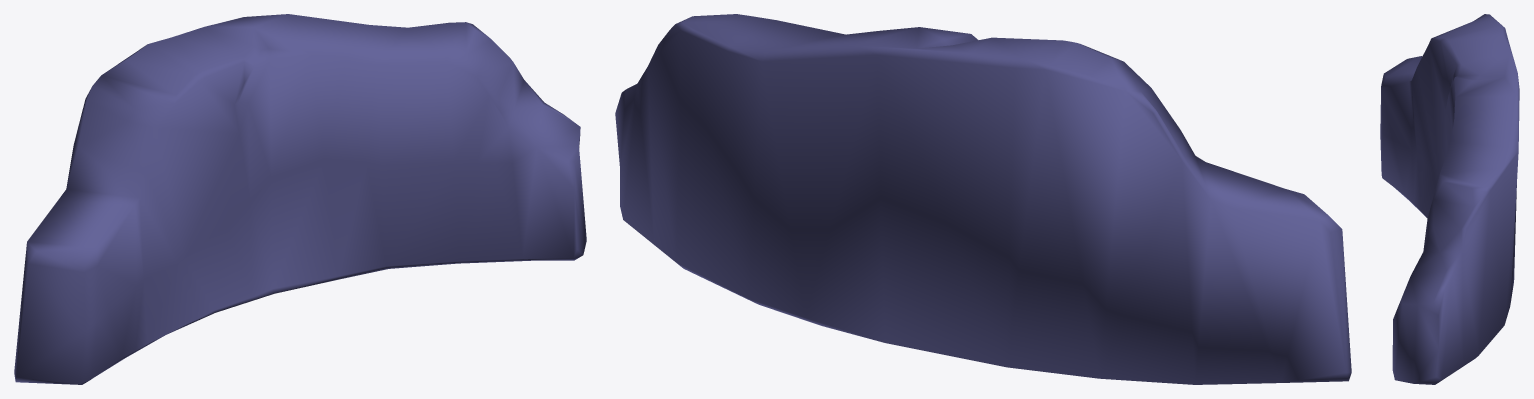
File: RuinsWall_1.fbx
3 views of the same model, side by side, from view 1: azimuth 30°, elevation 25°; view 2: azimuth 150°, elevation 25°; view 3: azimuth 270°, elevation 25° (orthographic). The views are drawn at different scales.
Parts seen in each view (by area): view 1: RuinsWall_1; view 2: RuinsWall_1; view 3: RuinsWall_1.
Part boxes in pixels (x1=…): RuinsWall_1: x1=14, y1=14, x2=586, y2=384; RuinsWall_1: x1=615, y1=14, x2=1351, y2=384; RuinsWall_1: x1=1380, y1=14, x2=1519, y2=384.
Bounding box in the file's own units: 1185 × 503 × 301.
